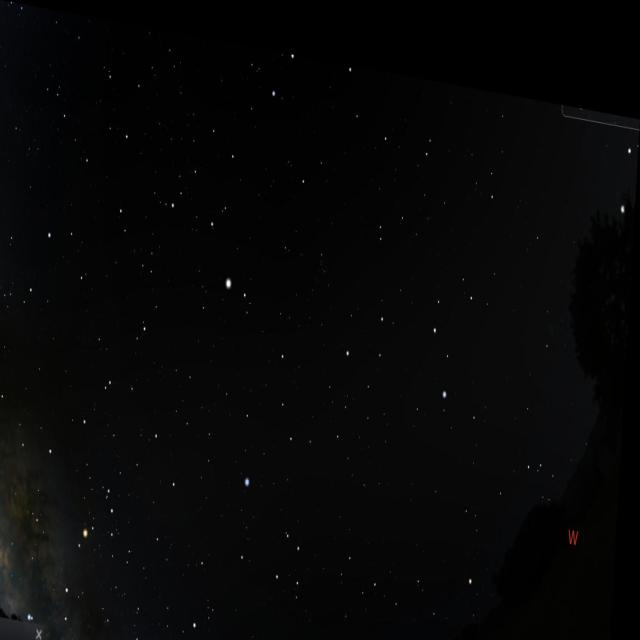bootes: (181, 94, 257, 289)
leo: (348, 236, 490, 414)
scorpius: (56, 470, 140, 640)
